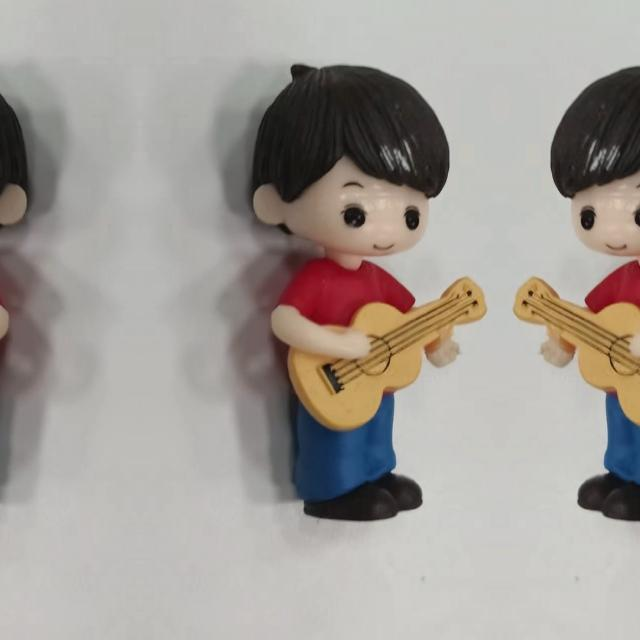man cloth: (269, 255, 419, 401), (581, 255, 640, 401), (0, 255, 11, 401)
man head: (242, 56, 456, 254), (543, 55, 640, 254), (0, 55, 38, 254)
trousers: (288, 396, 422, 538), (577, 396, 640, 538)
